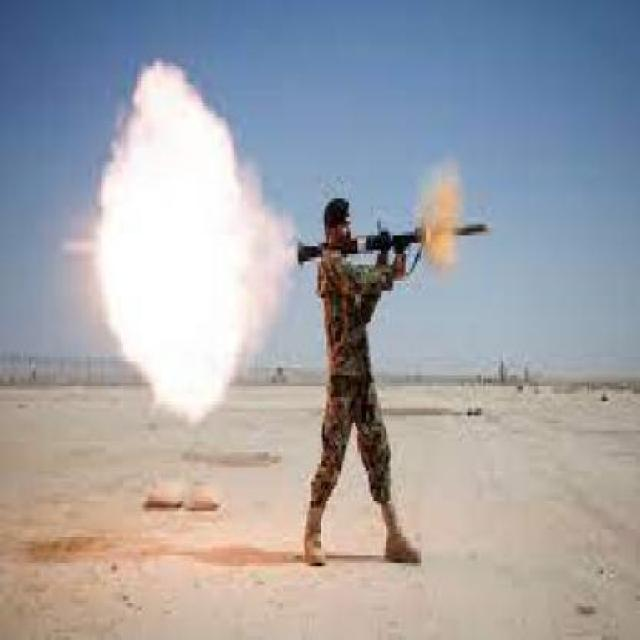weapon: (294, 212, 495, 275)
